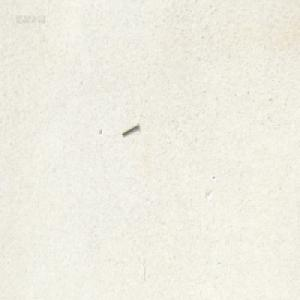Bolt: (121, 122, 138, 136)
